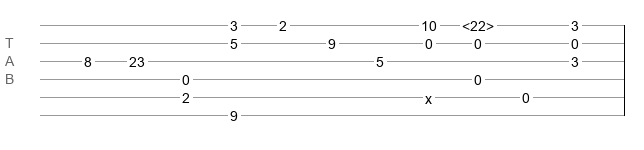0: (182, 72, 190, 82), (425, 36, 433, 46), (474, 36, 482, 46), (474, 72, 482, 82), (522, 90, 530, 100), (571, 36, 579, 46)
10: (421, 18, 437, 28)
2: (182, 90, 190, 100), (279, 18, 287, 28)
23: (129, 54, 145, 64)
3: (230, 18, 238, 28), (571, 54, 579, 64), (571, 18, 579, 28)
5: (230, 36, 238, 46), (376, 54, 384, 64)
8: (84, 54, 92, 64)
9: (230, 108, 238, 118), (328, 36, 336, 46)
harmonic: (462, 18, 494, 28)
x: (425, 91, 432, 99)
